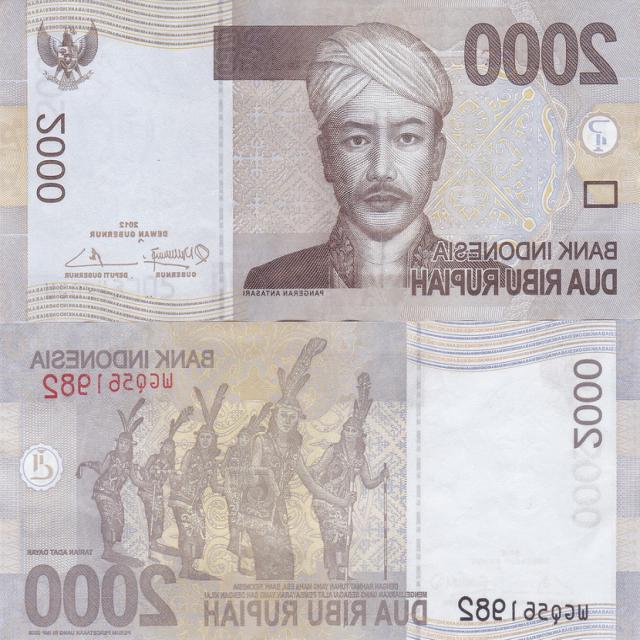dua ribu rupiah: (0, 0, 638, 323), (0, 323, 638, 637)
